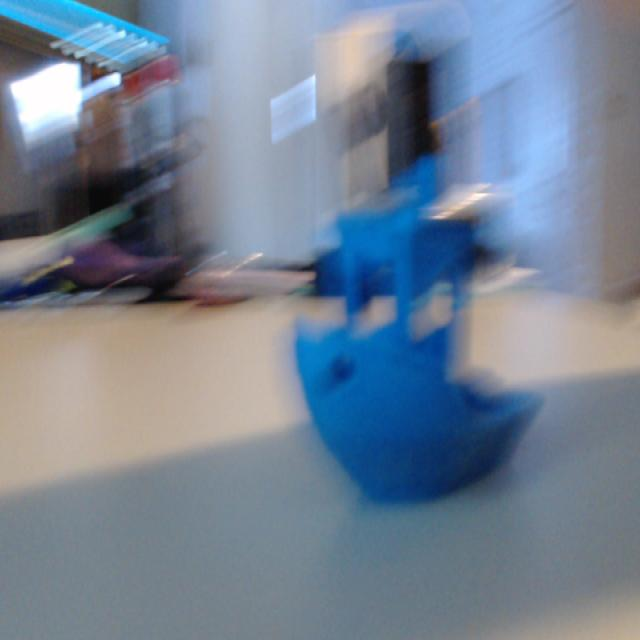benchy: (289, 190, 546, 506)
